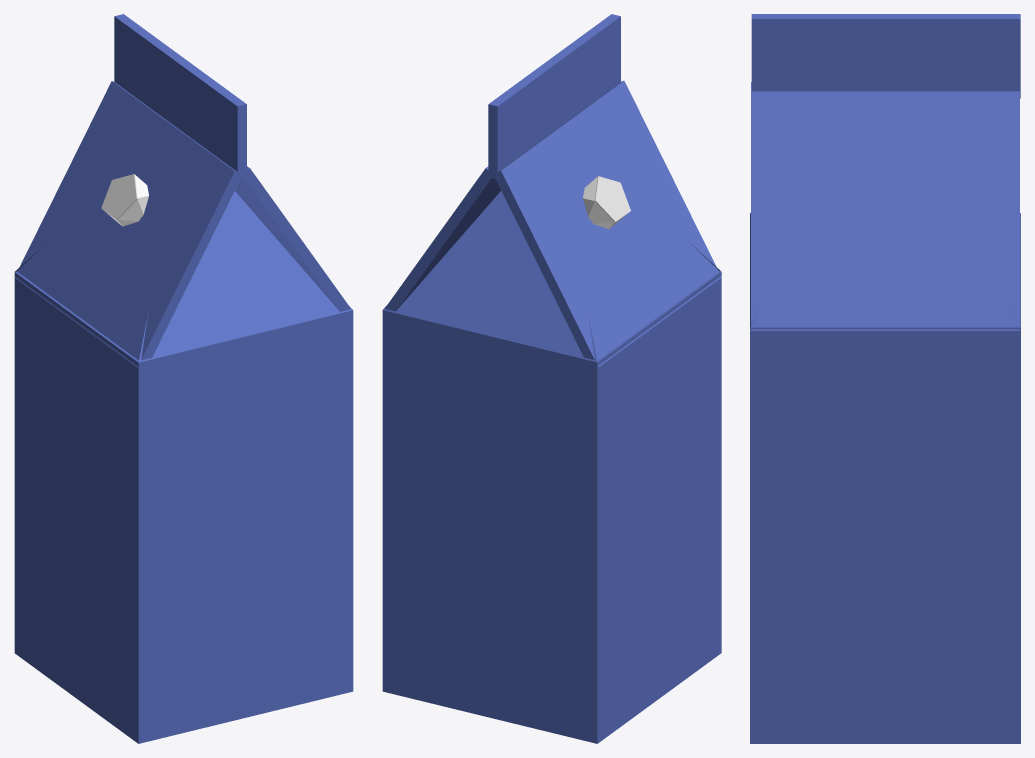
The model's file is milk0cartoonREADY.glb.
3 renders of one model, left to right at view 1: azimuth 30°, elevation 25°; view 2: azimuth 150°, elevation 25°; view 3: azimuth 270°, elevation 25°, orthographic. The views are drawn at different scales.
Visible parts, largest first — view 1: base for milk cartoon, sdie 1, top side, side 2, Cylinder, Icosphere; view 2: base for milk cartoon, sdie 1, top side, side 2, Cylinder, Icosphere; view 3: base for milk cartoon, side 2, top side.
Boxes of the visible parts, box(x1,y1,x2,y2) form: base for milk cartoon: box(14, 191, 353, 743); sdie 1: box(14, 81, 242, 367); top side: box(114, 14, 246, 178); side 2: box(235, 166, 350, 311); Cylinder: box(101, 174, 137, 220); Icosphere: box(103, 175, 148, 226); base for milk cartoon: box(382, 191, 721, 743); sdie 1: box(496, 80, 721, 367); top side: box(488, 14, 620, 179); side 2: box(384, 166, 500, 311); Cylinder: box(595, 176, 630, 221); Icosphere: box(583, 177, 626, 228); base for milk cartoon: box(750, 213, 1020, 743); side 2: box(751, 91, 1019, 330); top side: box(751, 14, 1020, 98).
Bounding box in the file's own units: 2.01 × 5.45 × 2.
